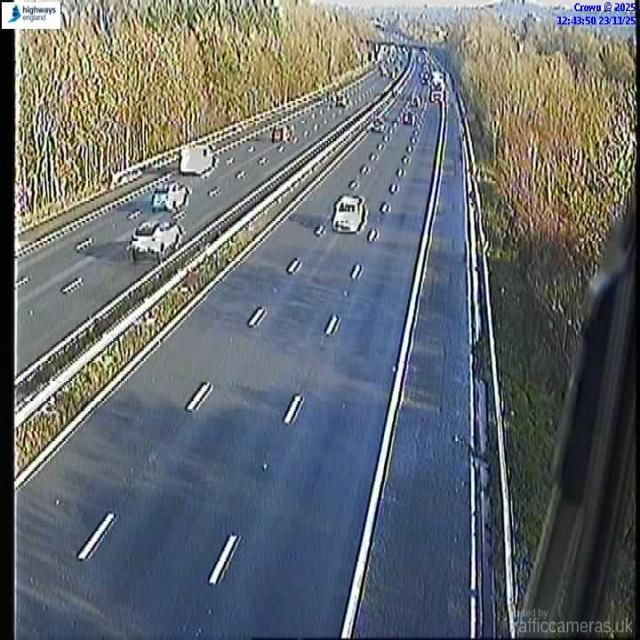foliage: (10, 0, 374, 227), (456, 19, 635, 330)
